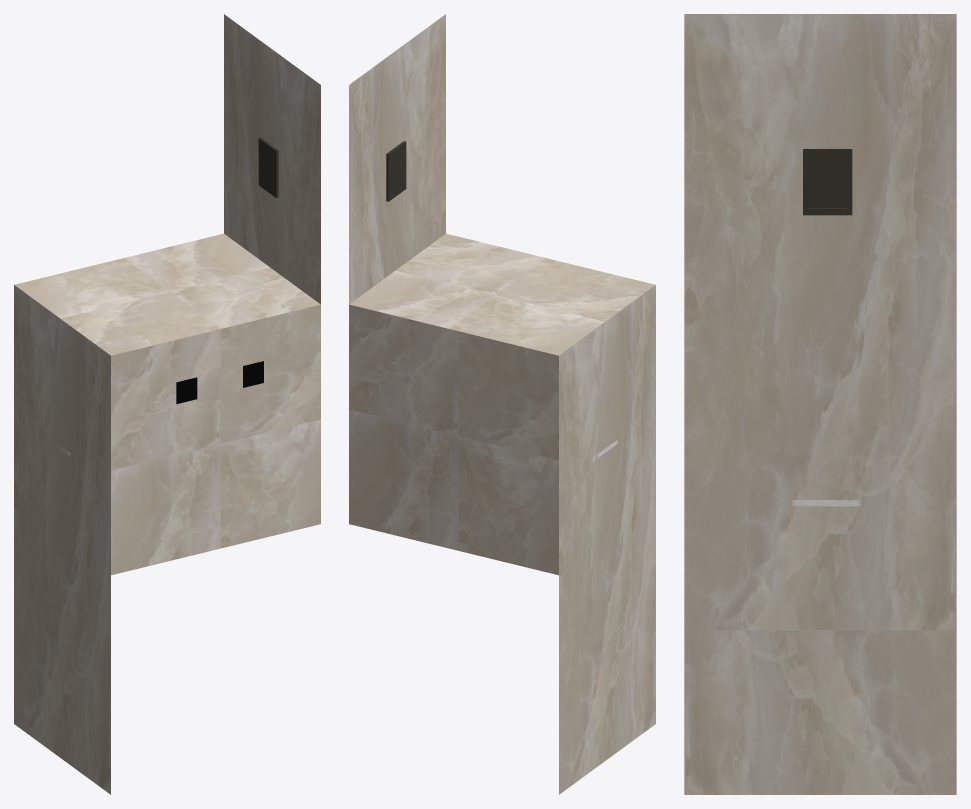
File: Small Room 5.fbx
3 renders of one model, left to right at view 1: azimuth 30°, elevation 25°; view 2: azimuth 150°, elevation 25°; view 3: azimuth 270°, elevation 25°, orthographic. The views are drawn at different scales.
Parts seen in each view (by area): view 1: Cube.035, Cube.073, Cube.072, Cube.041; view 2: Cube.035, Cube.073, Cube.072, Cube.041; view 3: Cube.072, Cube.073, Cube.041.
Boxes of the visible parts, x1,y1,x2,y2 form: Cube.035: [14, 233, 320, 575]; Cube.073: [14, 285, 110, 794]; Cube.072: [224, 14, 320, 304]; Cube.041: [258, 137, 278, 197]; Cube.035: [349, 233, 655, 575]; Cube.073: [559, 285, 655, 794]; Cube.072: [349, 14, 445, 304]; Cube.041: [386, 141, 406, 201]; Cube.072: [684, 14, 956, 630]; Cube.073: [684, 630, 956, 794]; Cube.041: [803, 149, 852, 215].
Bounding box in the file's own units: 1000 × 3000 × 800.
5 materials, 1 textured.
